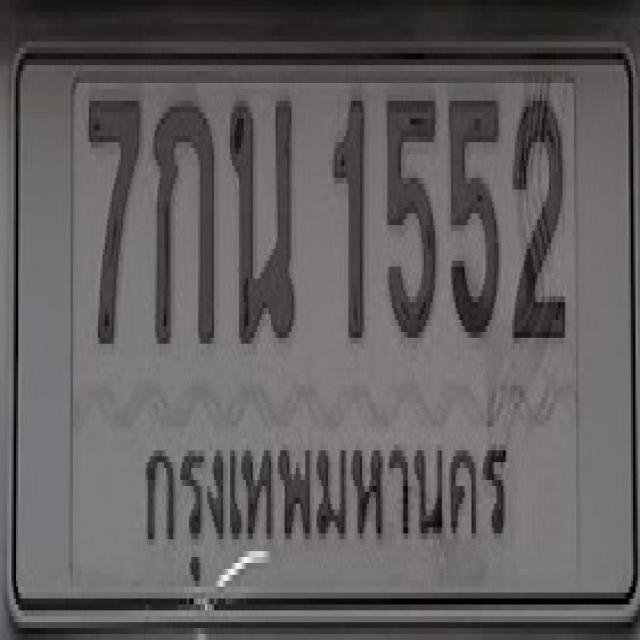license_plate: (9, 33, 640, 640)
